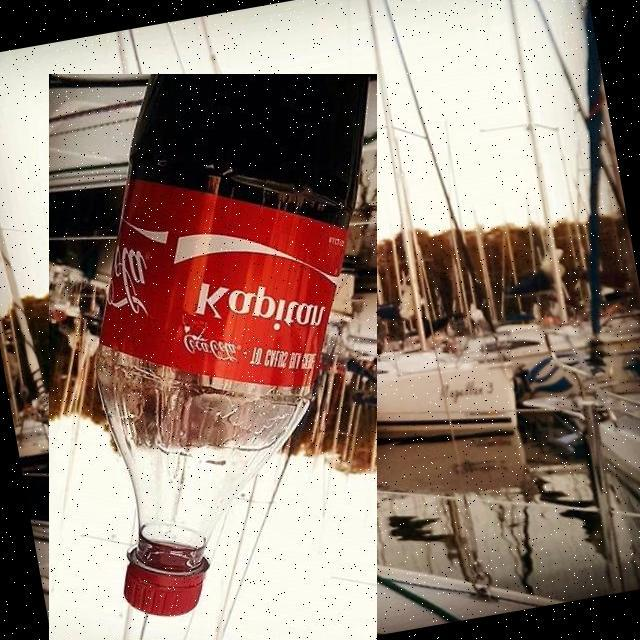coca-cola: (49, 74, 377, 640)
